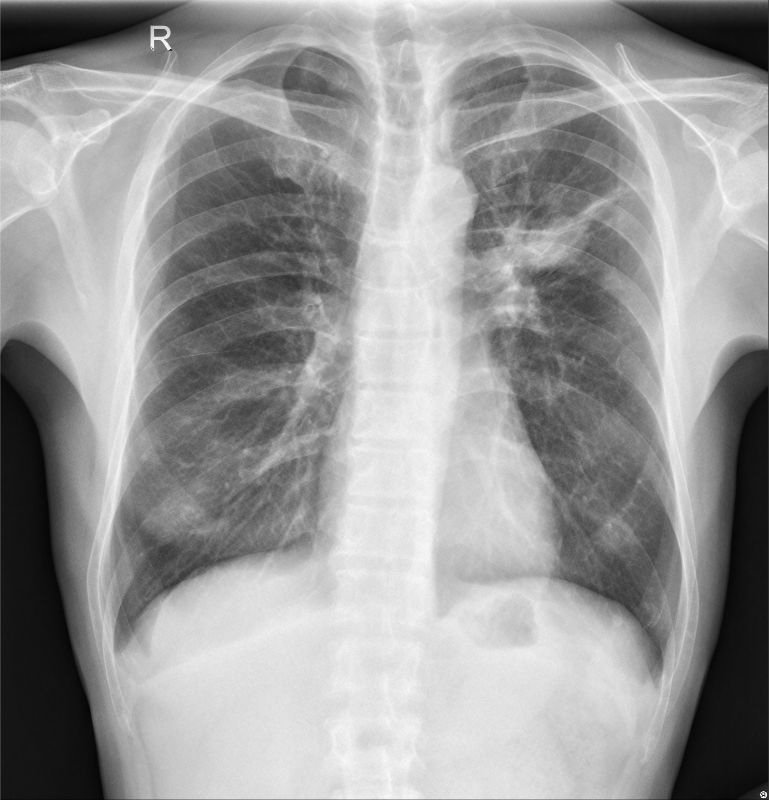Tuberculosis (TB): (498, 174, 639, 287), (235, 116, 330, 207)
